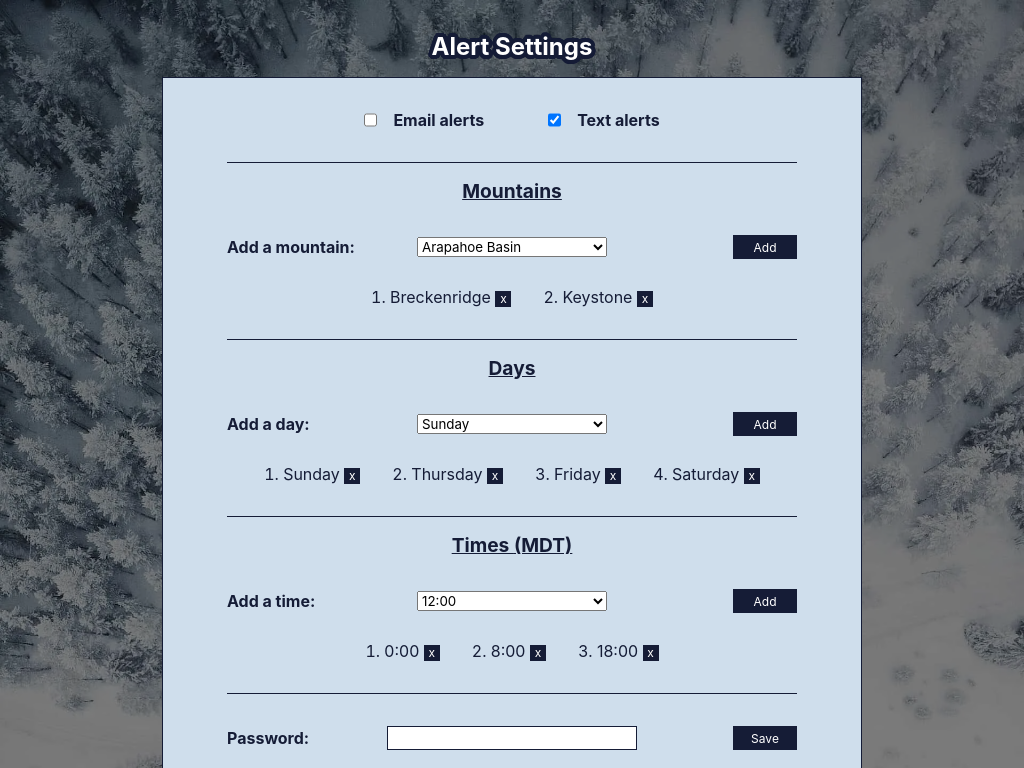
Test: Adds selected day to list on click
Check: the list with test id "day-list" is shown, box [264,468,760,484]
Select "Wednesday" in the dropdown labelled "Add a day:": (512, 424) [417,414,607,434]
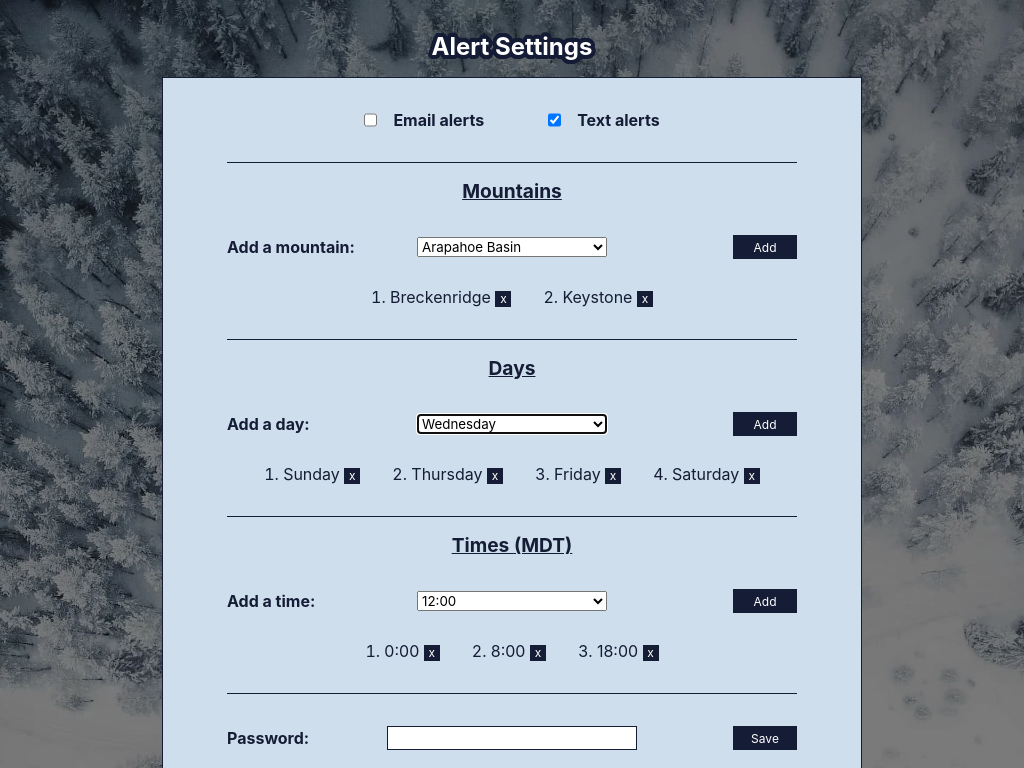
Click the button with test id "day-add": (765, 424) [733,412,797,436]
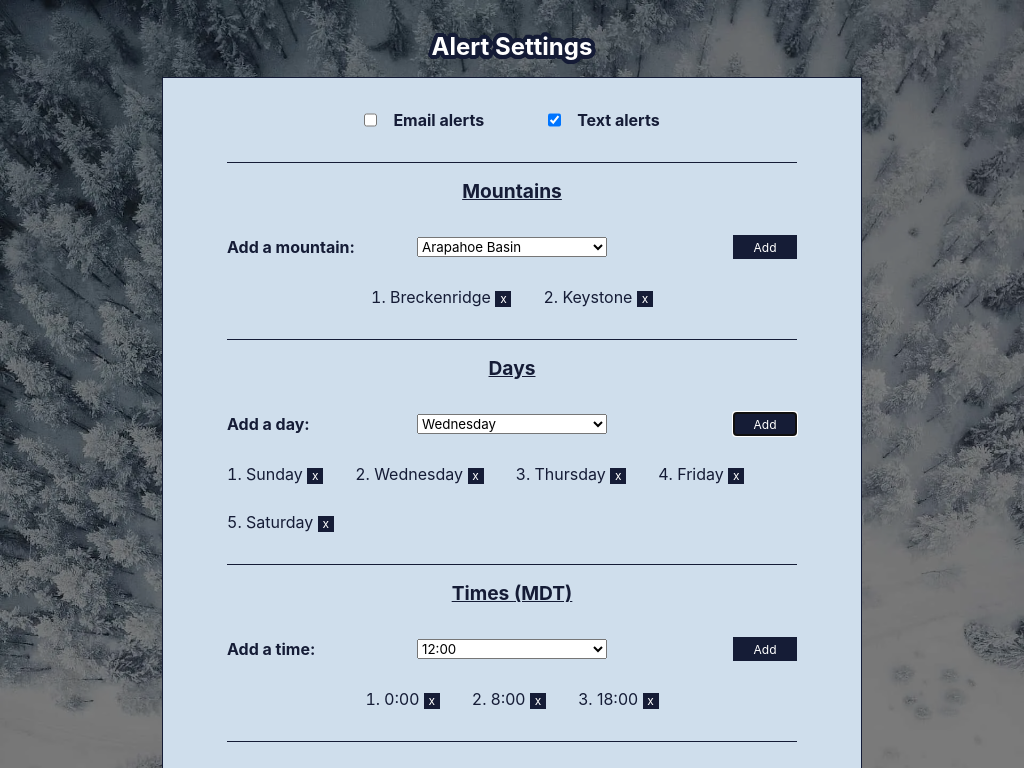
Check: the list items read "Sunday x", "Wednesday x", "Thursday x", "Friday x", "Saturday x", in this order, box [246,464,323,484]; [355,468,484,484]; [534,464,626,484]; [677,464,744,484]; [246,512,334,532]
